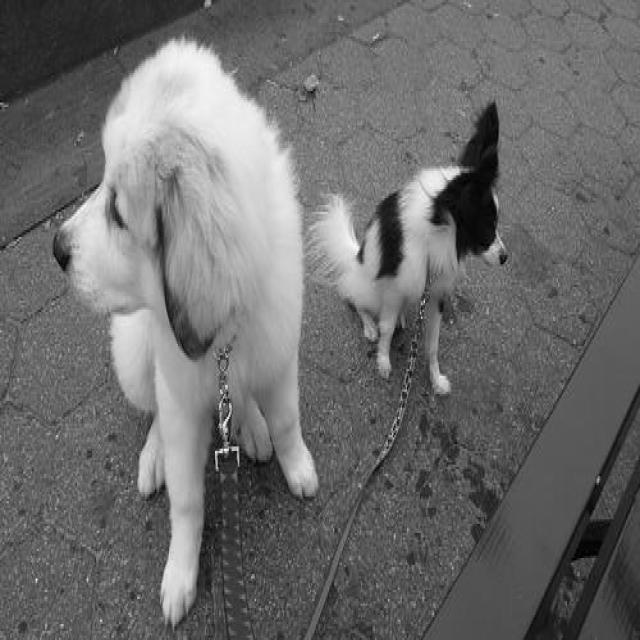sitting: (47, 34, 321, 636), (310, 98, 524, 401)
